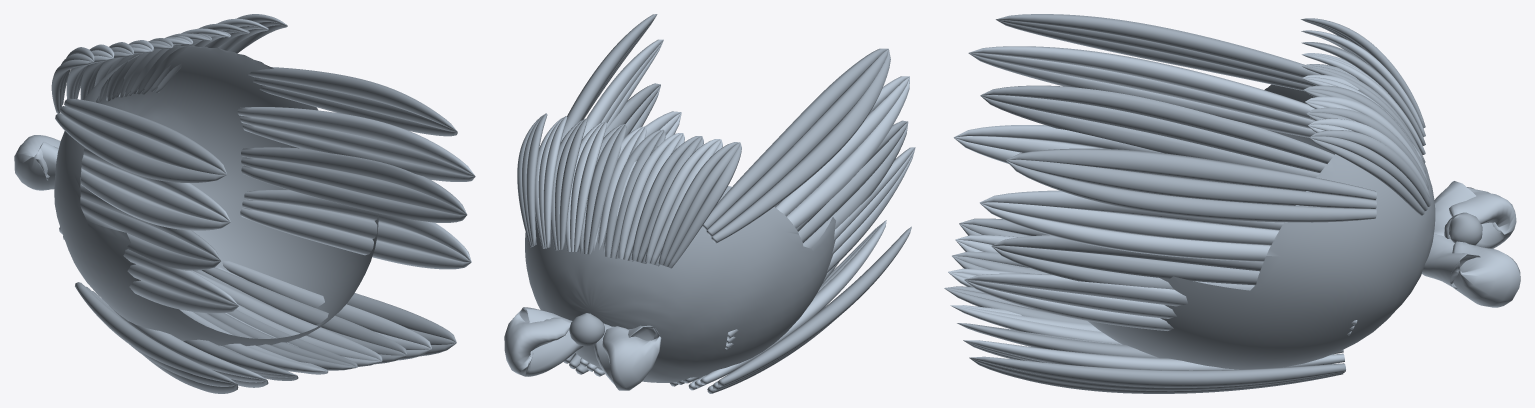
3 renders of one model, left to right at view 1: azimuth 30°, elevation 25°; view 2: azimuth 150°, elevation 25°; view 3: azimuth 270°, elevation 25°, orthographic. The views are drawn at different scales.
Parts seen in each view (by area): view 1: CrownHair_ref02, SideHair_1_1_Strand2, SideHair_1_3_Strand0, SideHair_1_3_Strand1, SideHair_1_2_Strand2, SideHair_1_2_Strand1, SideHair_1_2_Strand0, SideHair_1_0_Strand2, SideHair_-1_0_Strand2, SideHair_1_1_Strand1, BackHair_06_Strand2, BackHair_07_Strand2 (+37 smaller); view 2: CrownHair_ref02, SideHair_-1_0_Strand2, Hair_Bow_1, SideHair_-1_0_Strand0, SideHair_-1_0_Strand1, BackHair_00_Strand0, Hair_Bow_-1, SideHair_-1_1_Strand2, SideHair_-1_1_Strand1, BackHair_01_Strand0, SideHair_1_0_Strand2, SideHair_-1_2_Strand1 (+38 smaller); view 3: CrownHair_ref02, SideHair_1_0_Strand2, SideHair_1_0_Strand0, SideHair_1_0_Strand1, SideHair_-1_1_Strand0, BackHair_08_Strand2, SideHair_-1_2_Strand0, SideHair_-1_2_Strand1, SideHair_1_1_Strand1, SideHair_-1_0_Strand0, Hair_Bow_1, SideHair_1_1_Strand0 (+38 smaller).
Part boxes in pixels (x1,y1,x2,y2): CrownHair_ref02: (54, 45, 378, 345); SideHair_1_1_Strand2: (237, 107, 474, 175); SideHair_1_3_Strand0: (240, 207, 471, 269); SideHair_1_3_Strand1: (242, 199, 471, 262); SideHair_1_2_Strand2: (241, 147, 466, 214); SideHair_1_2_Strand1: (241, 157, 466, 215); SideHair_1_2_Strand0: (241, 165, 466, 222); SideHair_1_0_Strand2: (248, 67, 456, 130); SideHair_-1_0_Strand2: (55, 113, 226, 182); SideHair_1_1_Strand1: (240, 116, 474, 176); BackHair_06_Strand2: (202, 267, 406, 354); BackHair_07_Strand2: (222, 261, 431, 348); CrownHair_ref02: (525, 186, 835, 382); SideHair_-1_0_Strand2: (711, 49, 890, 243); Hair_Bow_1: (504, 307, 584, 376); SideHair_-1_0_Strand0: (702, 48, 888, 230); SideHair_-1_0_Strand1: (706, 49, 888, 236); BackHair_00_Strand0: (717, 226, 911, 386); Hair_Bow_-1: (593, 323, 661, 390); SideHair_-1_1_Strand2: (786, 77, 909, 228); SideHair_-1_1_Strand1: (775, 77, 909, 216); BackHair_01_Strand0: (700, 220, 886, 384); SideHair_1_0_Strand2: (561, 14, 657, 141); SideHair_-1_2_Strand1: (798, 122, 907, 242); CrownHair_ref02: (1088, 84, 1435, 369); SideHair_1_0_Strand2: (1006, 148, 1376, 199); SideHair_1_0_Strand0: (1006, 160, 1376, 222); SideHair_1_0_Strand1: (1006, 159, 1376, 208); SideHair_-1_1_Strand0: (969, 46, 1315, 120); BackHair_08_Strand2: (969, 356, 1345, 387); SideHair_-1_2_Strand0: (981, 85, 1334, 163); SideHair_-1_2_Strand1: (980, 95, 1326, 172); SideHair_1_1_Strand1: (980, 202, 1278, 245); SideHair_-1_0_Strand0: (996, 14, 1320, 77); Hair_Bow_1: (1421, 234, 1520, 307); SideHair_1_1_Strand0: (980, 203, 1270, 261).
Bounding box in the file's own units: 0.6229 × 0.5911 × 1.05.
